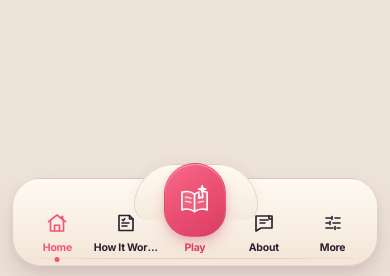
Test case: MobileBottomNav › routes an ordinary Home click once and closes More
Click the button "More" at (333, 230), box [298,203,367,257]
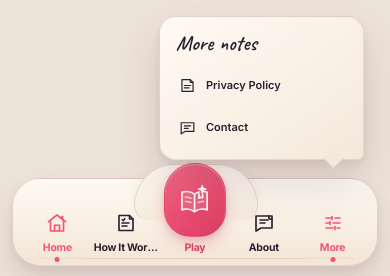
Click the link "Home" at (57, 230), box [23,203,92,257]
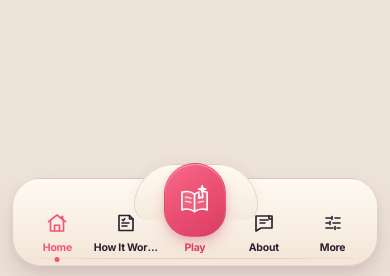
Now the button "More" is collapsed, box [298,203,367,257]
Now the link "Contact" is gone
